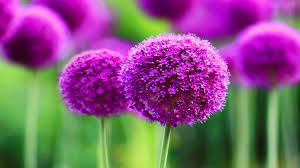flower: (110, 17, 233, 138), (8, 9, 85, 81), (66, 33, 126, 106), (237, 26, 287, 82)
